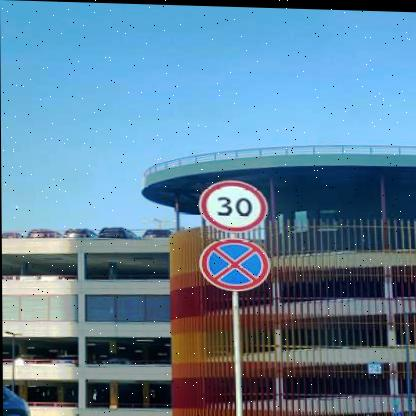Speed Limit -30-: (197, 177, 269, 233)
